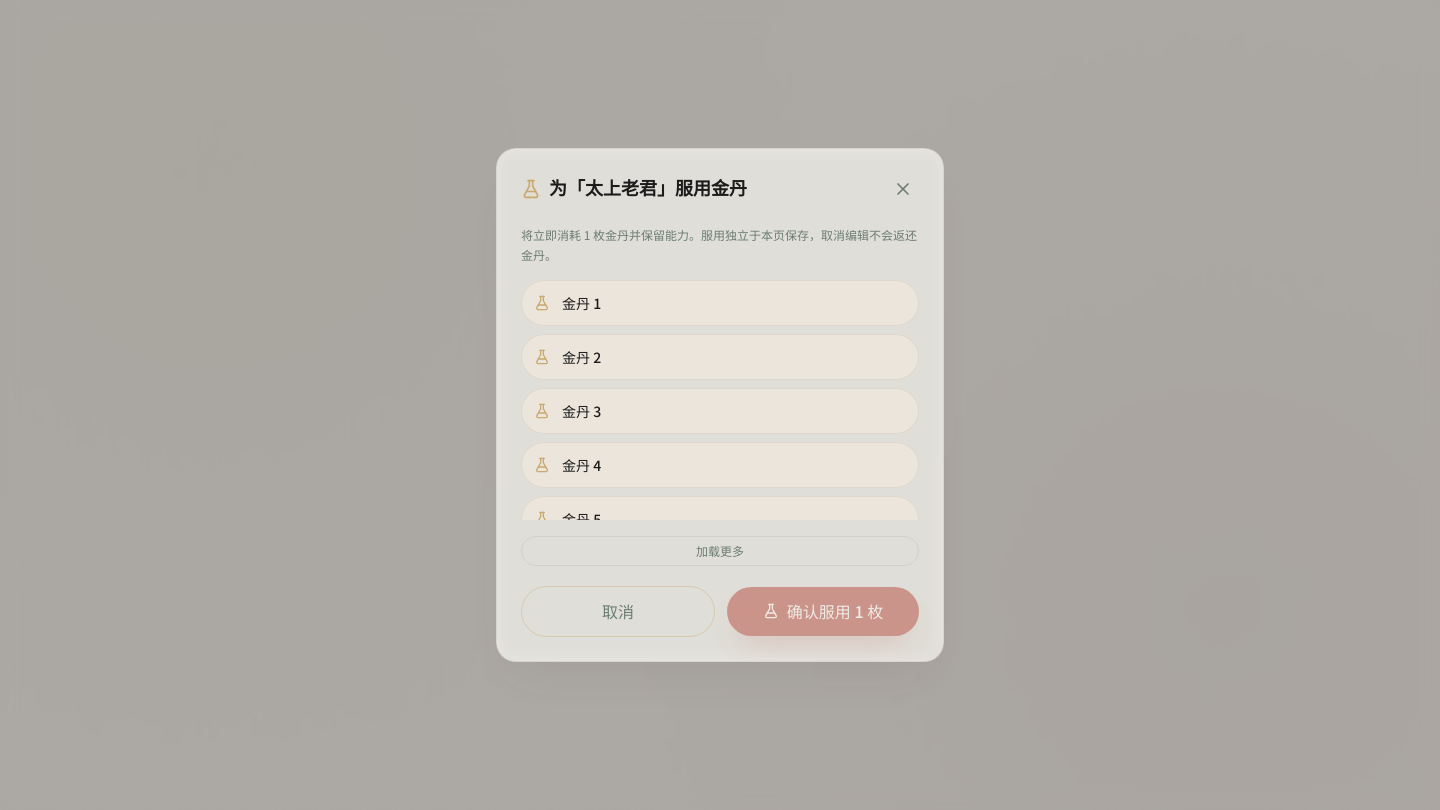
Test: ConsumeInventoryPillModal 服用金丹·库存选择弹窗 › 后续页加载失败:保留已加载项与选择,展示失败并允许重试
Expected: the radio button labelled "金丹 1" is shown, [521,280,919,326]
Click the radio button labelled "金丹 3".
click(582, 411)  # box [521,388,919,434]
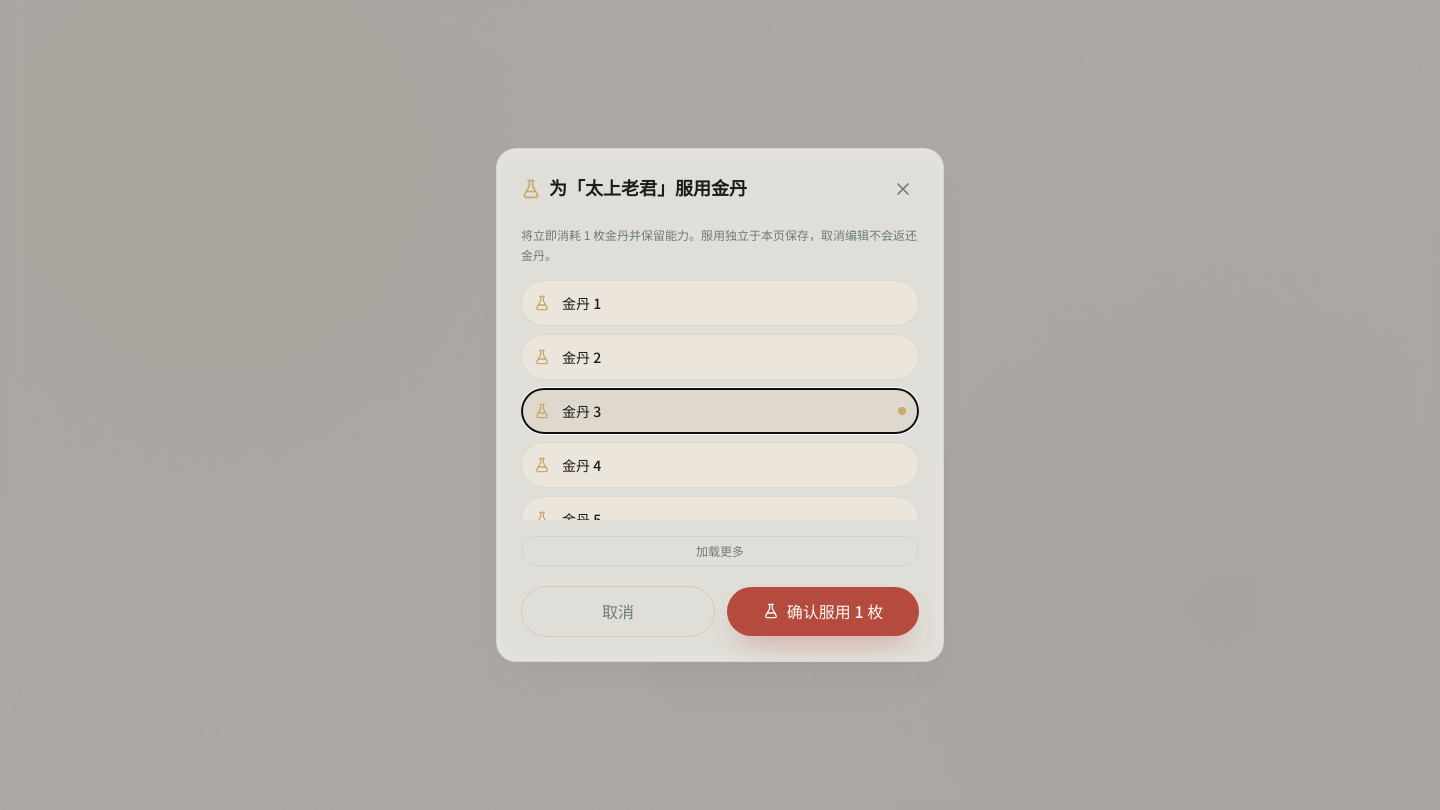
Click the button "加载更多".
click(720, 551)  # box [521,536,919,566]
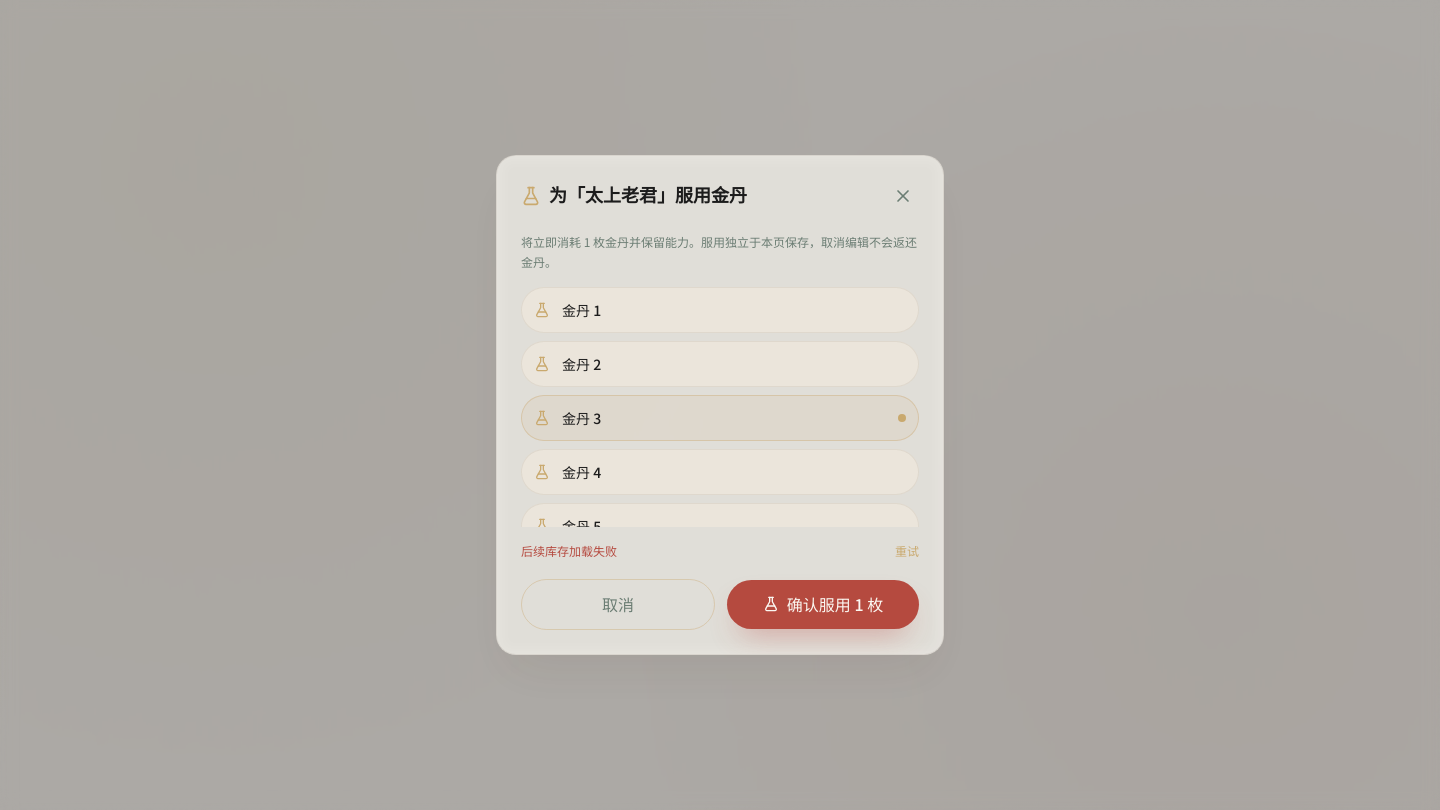
Result: the text "后续库存加载失败" is shown at [521,543,617,559]
Click the button "重试".
click(907, 551)  # box [895,543,919,559]
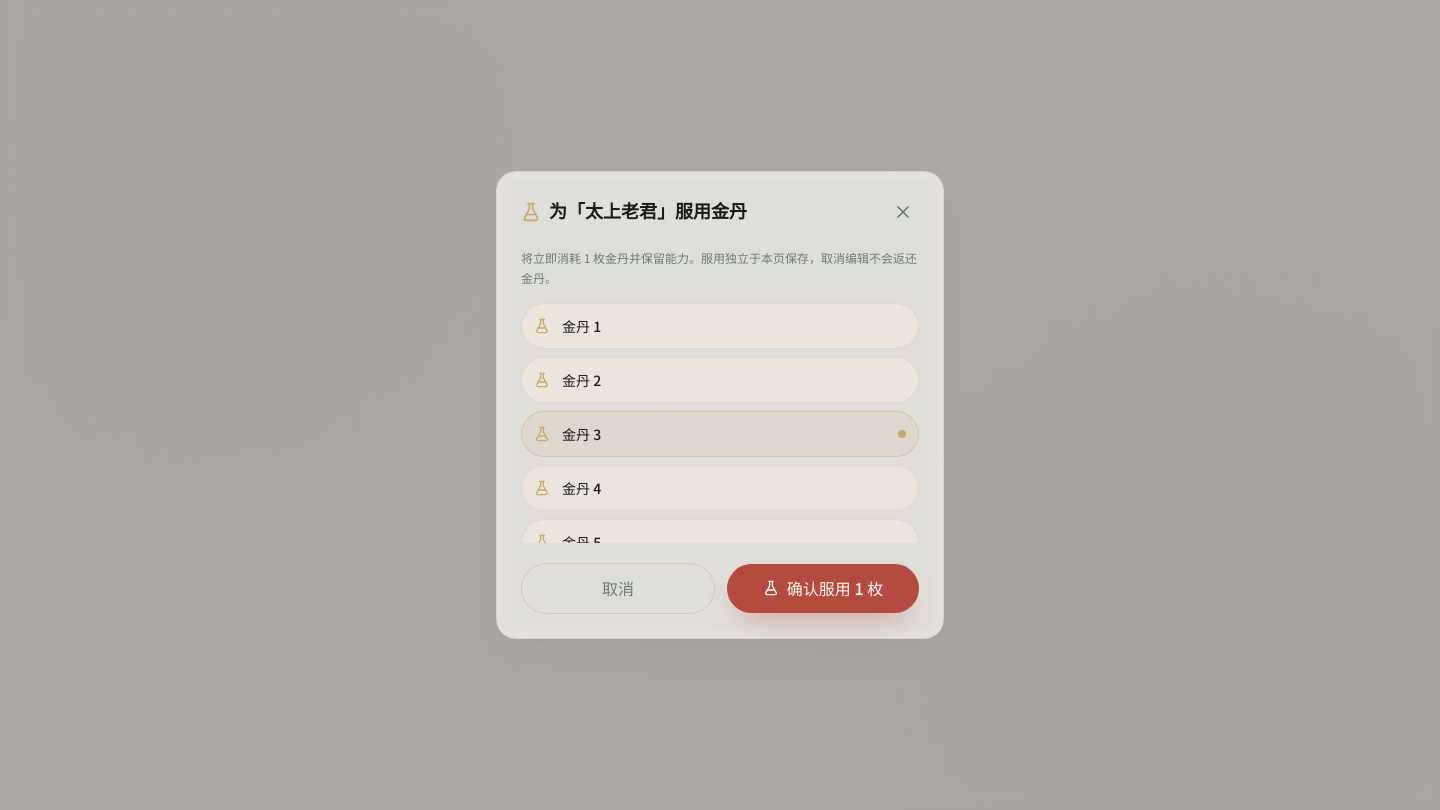
Result: the text "后续库存加载失败" is gone
